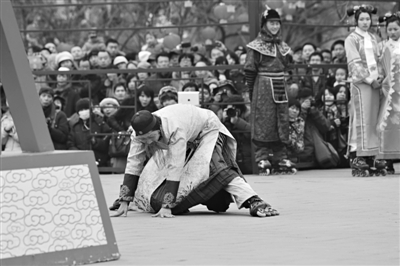10+: (1, 2, 400, 181)
down: (118, 103, 245, 223), (137, 150, 277, 226)
